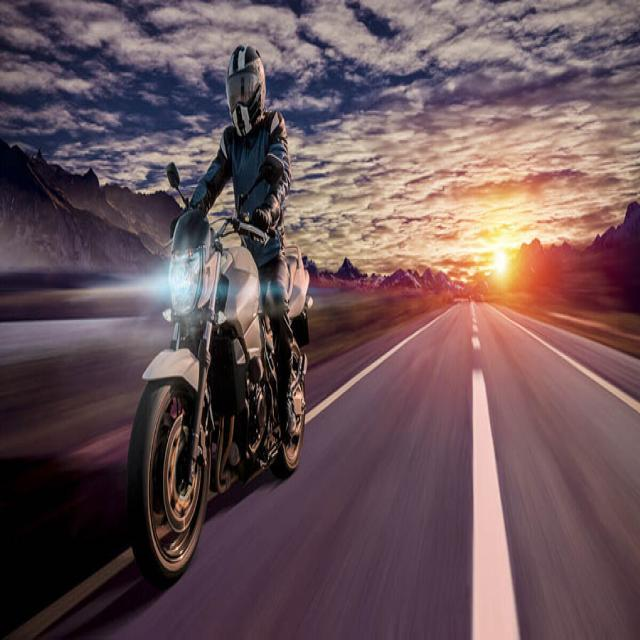MOTORCYCLE: (141, 202, 306, 596)
